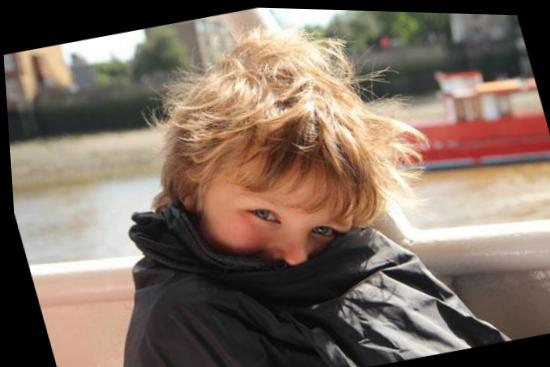WRONG: (215, 166, 362, 309)
